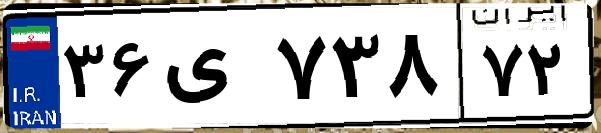2: (525, 38, 570, 115)
3: (330, 28, 385, 110), (57, 26, 110, 100)
6: (110, 28, 158, 98)
7: (270, 28, 330, 110), (475, 38, 525, 113)
8: (385, 28, 445, 110)
ی: (158, 20, 270, 120)
